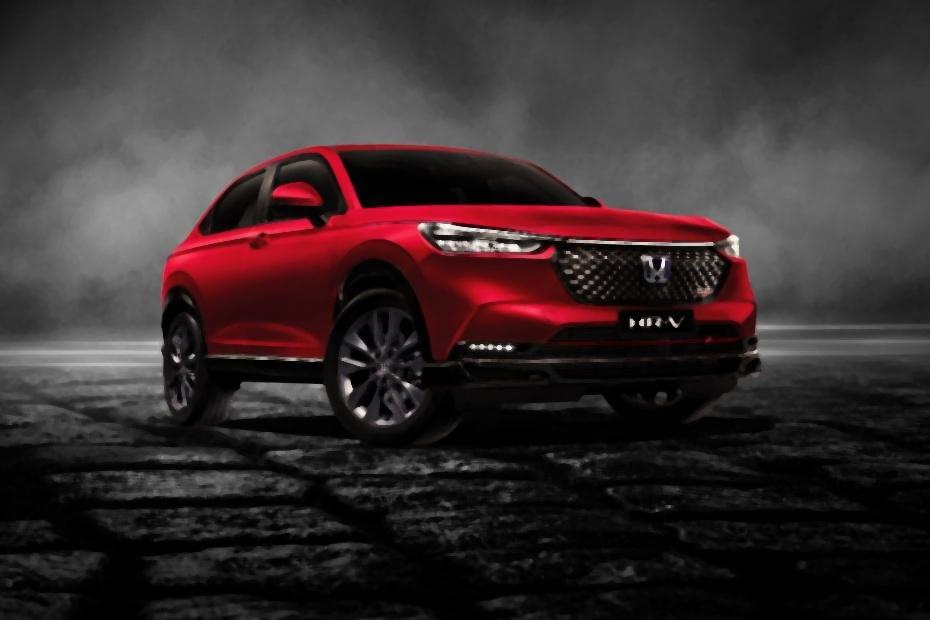Car hood: (368, 203, 726, 249)
Driver-s door - -F-R-: (236, 138, 350, 391)
Fender - -F-R-: (316, 171, 432, 383)
Fender - -R-R-: (161, 213, 204, 319)
Front bumper: (399, 255, 763, 391)
Headlight - -L-: (716, 233, 744, 263)
Headlight - -R-: (419, 219, 554, 256)
Passenger-s door - -R-R-: (175, 142, 274, 393)
Side bumper - -R-: (199, 338, 334, 396)
Side mirror - -R-: (269, 179, 332, 229)
